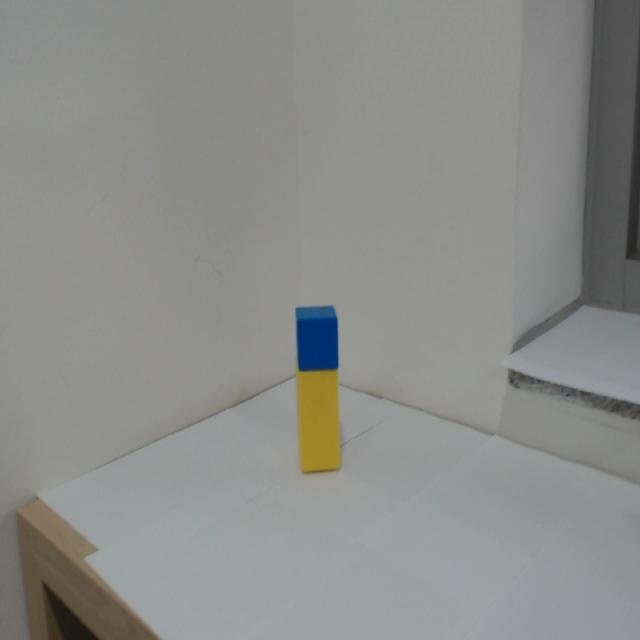cube: (296, 303, 340, 370)
